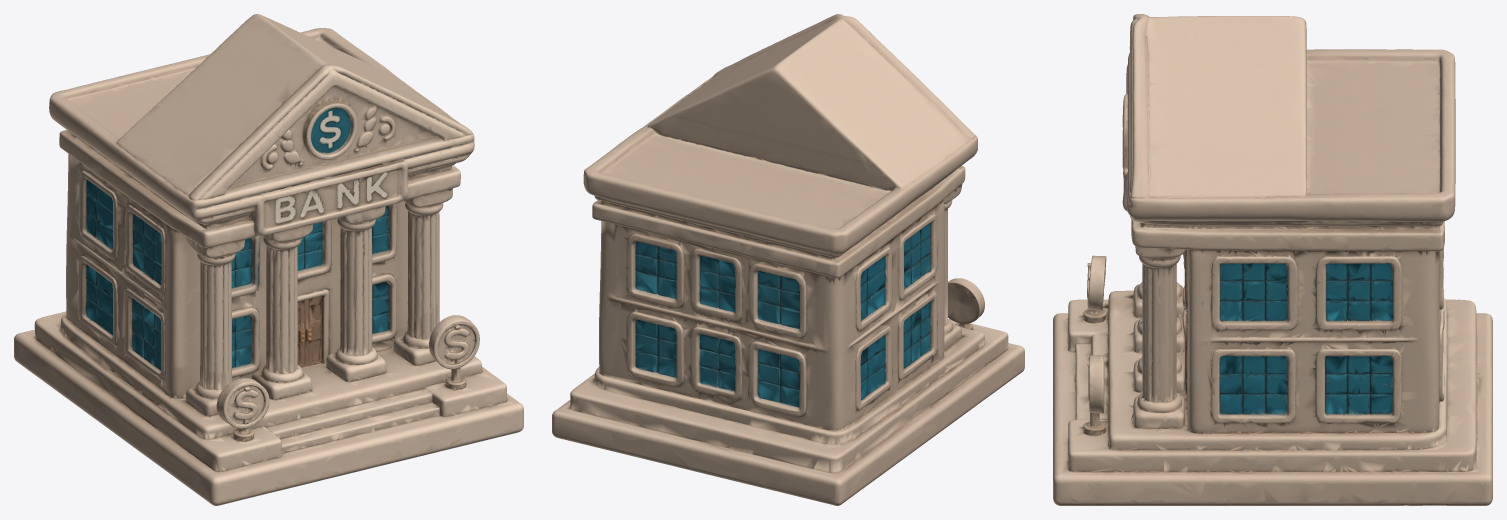
The model's file is ngan-hang.glb.
3 views of the same model, side by side, from view 1: azimuth 30°, elevation 25°; view 2: azimuth 150°, elevation 25°; view 3: azimuth 270°, elevation 25° (orthographic). The views are drawn at different scales.
Parts seen in each view (by area): view 1: mesh_node; view 2: mesh_node; view 3: mesh_node.
Boxes of the visible parts, x1=… form: mesh_node: x1=14, y1=14, x2=523, y2=505; mesh_node: x1=552, y1=14, x2=1024, y2=505; mesh_node: x1=1053, y1=14, x2=1492, y2=505.
Bounding box in the file's own units: 1.66 × 1.9 × 1.85.
1 material, 1 textured.
